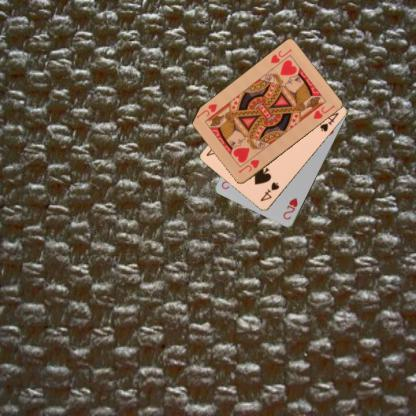2h: (280, 196, 299, 222)
4s: (258, 180, 280, 202)
Jh: (268, 46, 293, 65), (236, 157, 260, 175)
